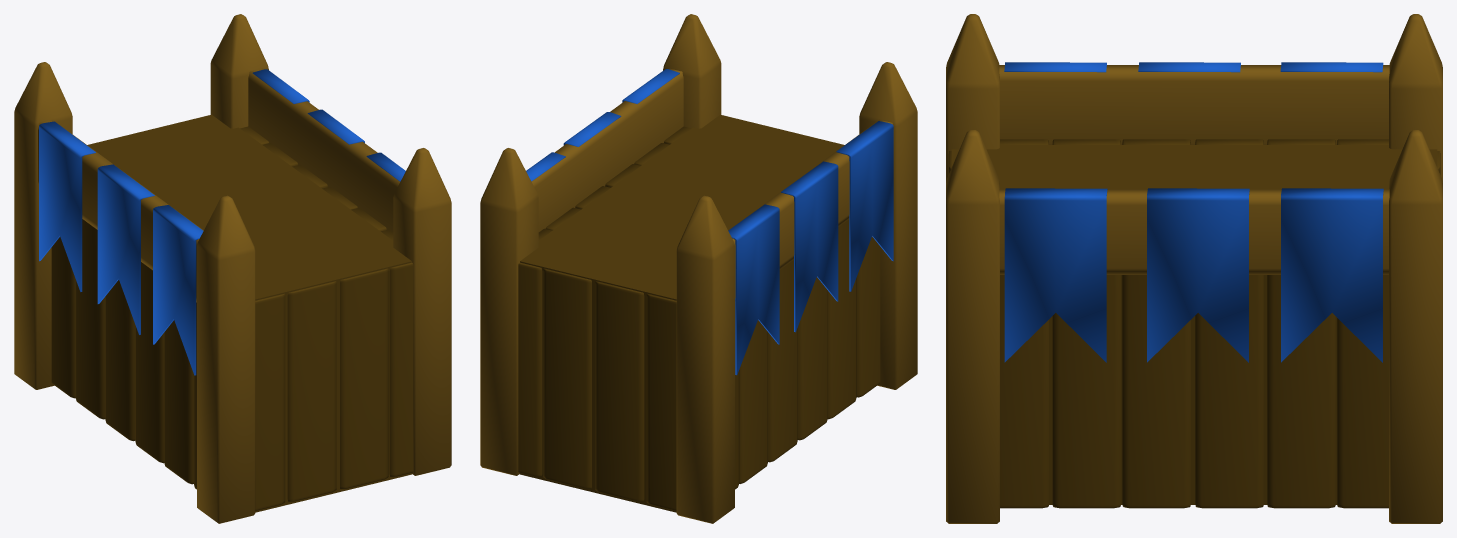
Rendered from Wall_Level1_BlueTeam.glb.
3 renders of one model, left to right at view 1: azimuth 30°, elevation 25°; view 2: azimuth 150°, elevation 25°; view 3: azimuth 270°, elevation 25°, orthographic. The views are drawn at different scales.
Visible parts, largest first — view 1: Wall_Level1_BlueTeam; view 2: Wall_Level1_BlueTeam; view 3: Wall_Level1_BlueTeam.
Boxes of the visible parts, box(x1,y1,x2,y2) form: Wall_Level1_BlueTeam: box(14, 14, 451, 523); Wall_Level1_BlueTeam: box(480, 14, 917, 523); Wall_Level1_BlueTeam: box(946, 14, 1442, 523).
Bounding box in the file's own units: 9.76 × 12.54 × 14.77.
